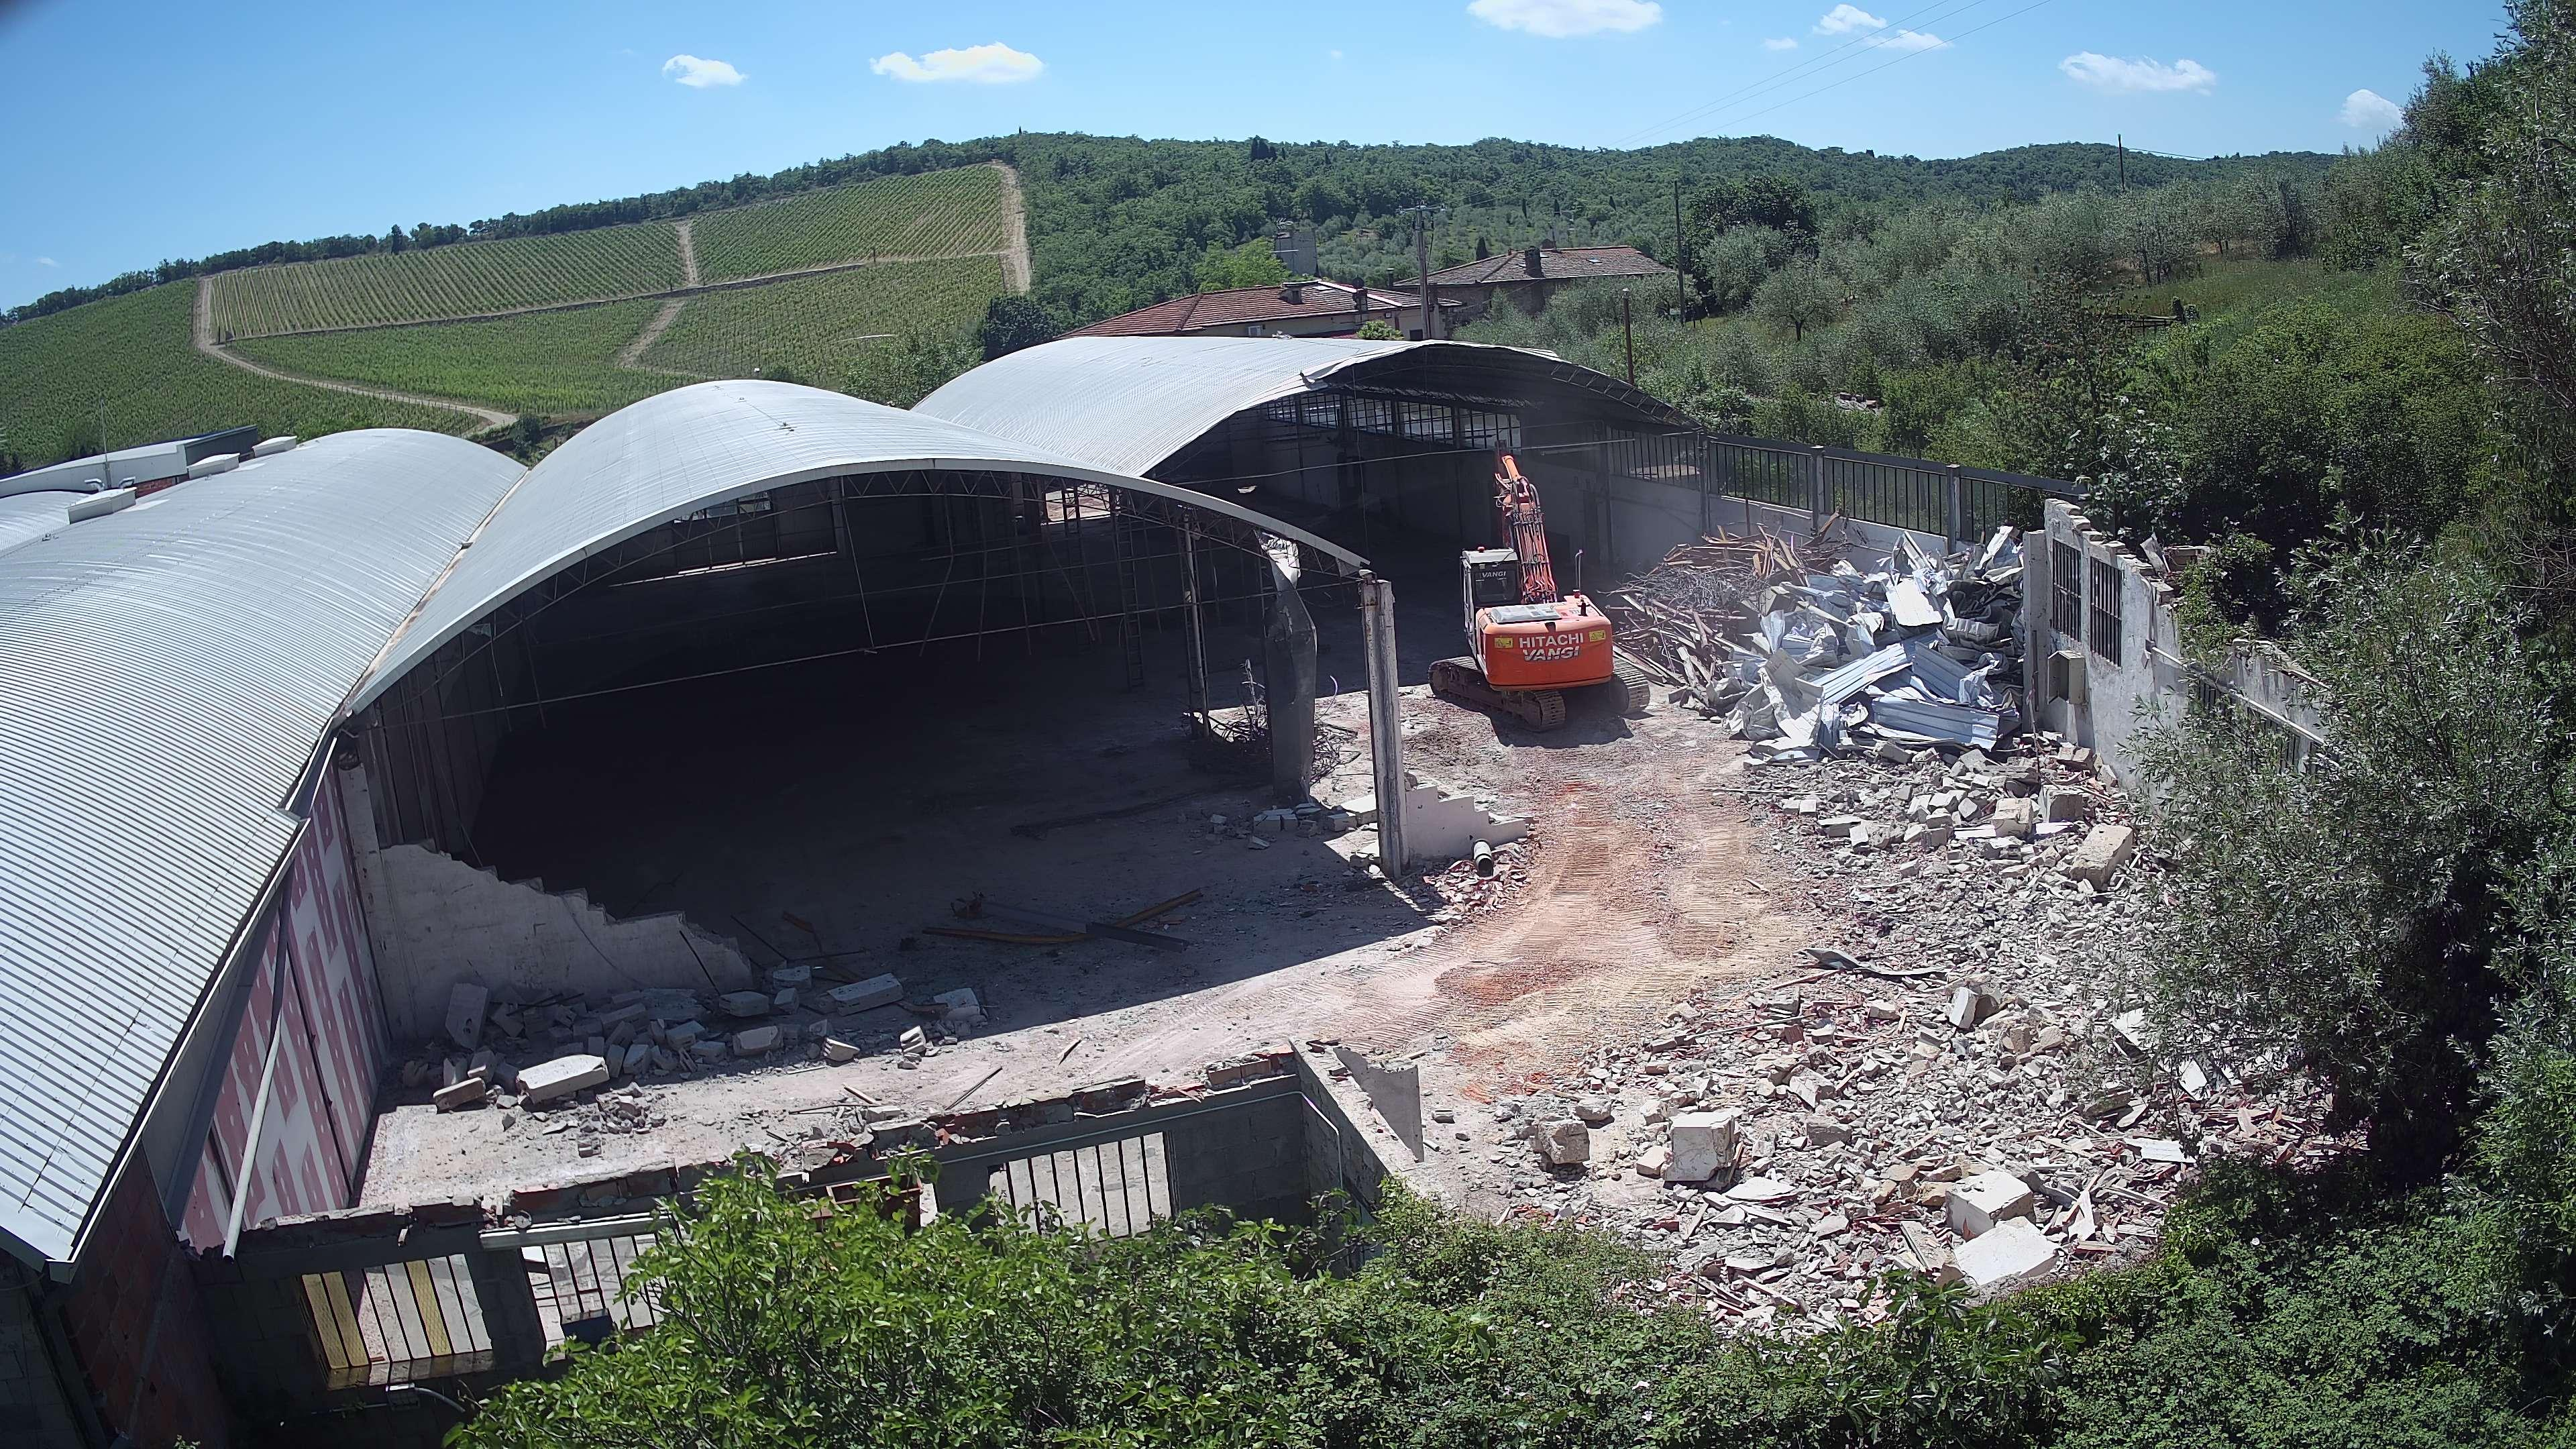excavator: (1428, 437, 1651, 732)
